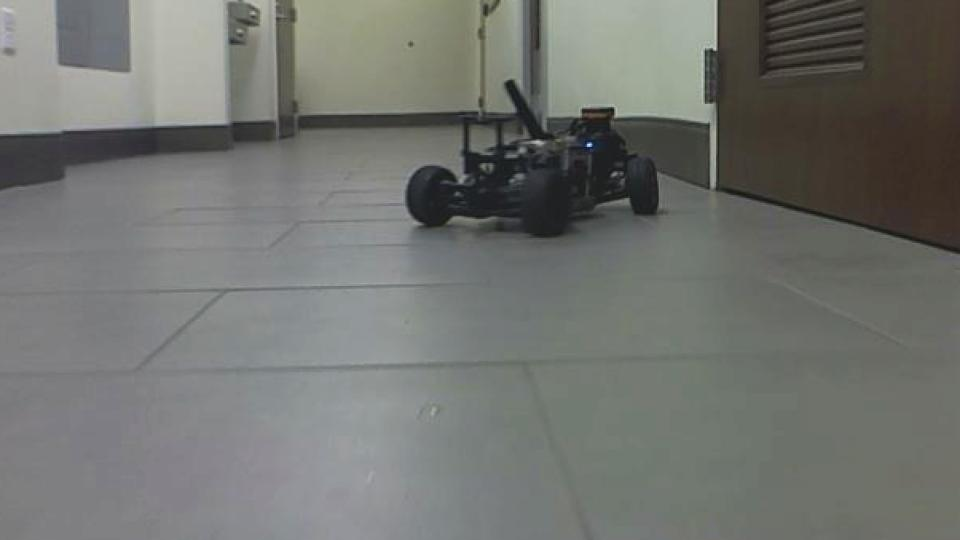car: (404, 75, 664, 240)
